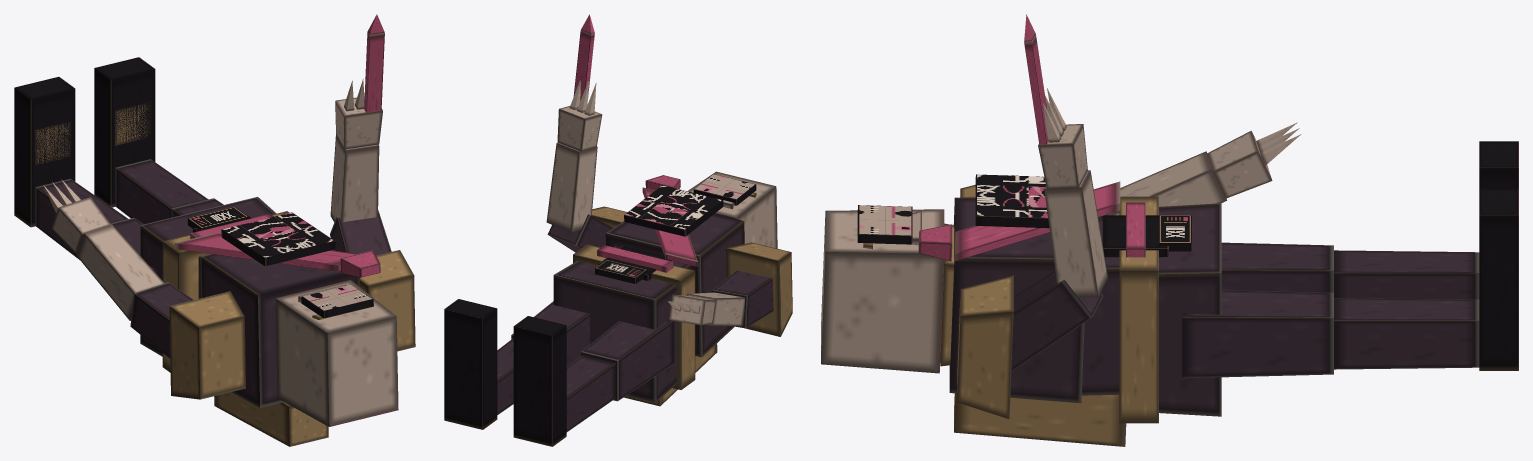
File: promissor_neutral.obj
The picture shows the model from 3 angles, left to right: view 1: azimuth 30°, elevation 25°; view 2: azimuth 150°, elevation 25°; view 3: azimuth 270°, elevation 25°; orthographic projection. The views are drawn at different scales.
Visible parts, largest first — view 1: promissor_neutral; view 2: promissor_neutral; view 3: promissor_neutral.
Part boxes in pixels (box(x1,y1,x2,y2)): promissor_neutral: box(14, 14, 415, 446); promissor_neutral: box(444, 14, 792, 446); promissor_neutral: box(821, 14, 1518, 446).
Bounding box in the file's own units: 0.5 × 0.7533 × 1.
Materials: 1 (1 with a texture image).
